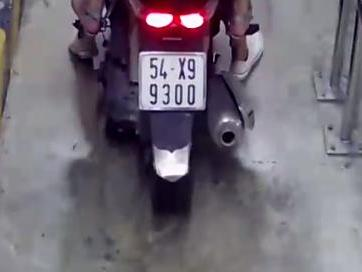num_plate: (139, 51, 206, 110)
